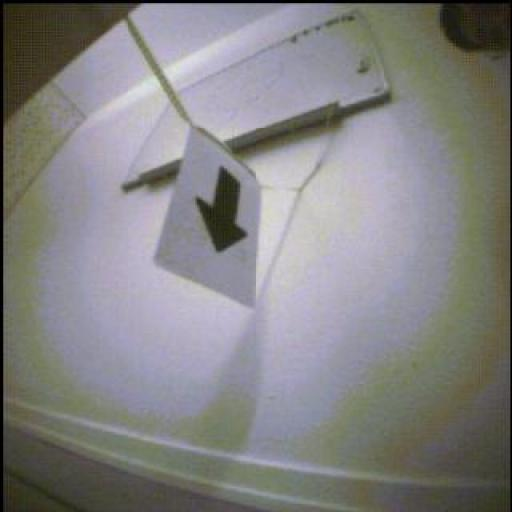Arrow: (197, 168, 248, 253)
